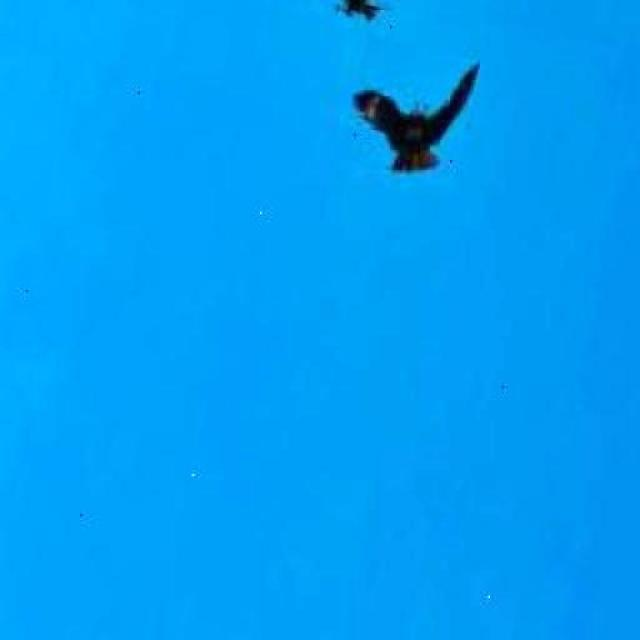airplane: (335, 34, 481, 188), (308, 0, 414, 29)
